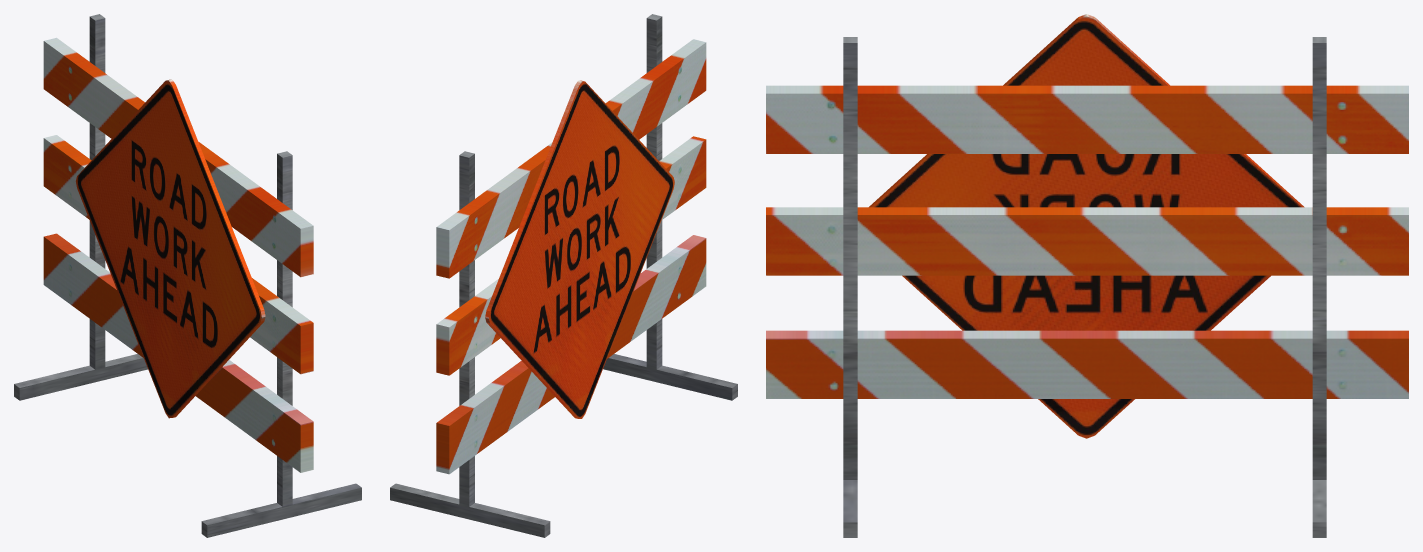
The model's file is road-work-ahead.fbx.
The picture shows the model from 3 angles, left to right: view 1: azimuth 30°, elevation 25°; view 2: azimuth 150°, elevation 25°; view 3: azimuth 270°, elevation 25°; orthographic projection. The views are drawn at different scales.
Parts seen in each view (by area): view 1: Plane.061; view 2: Plane.061; view 3: Plane.061.
Part boxes in pixels (<box>): Plane.061: <box>14,14,361,537</box>; Plane.061: <box>390,14,737,537</box>; Plane.061: <box>766,14,1408,537</box>.
Bounding box in the file's own units: 105 × 241 × 302.
